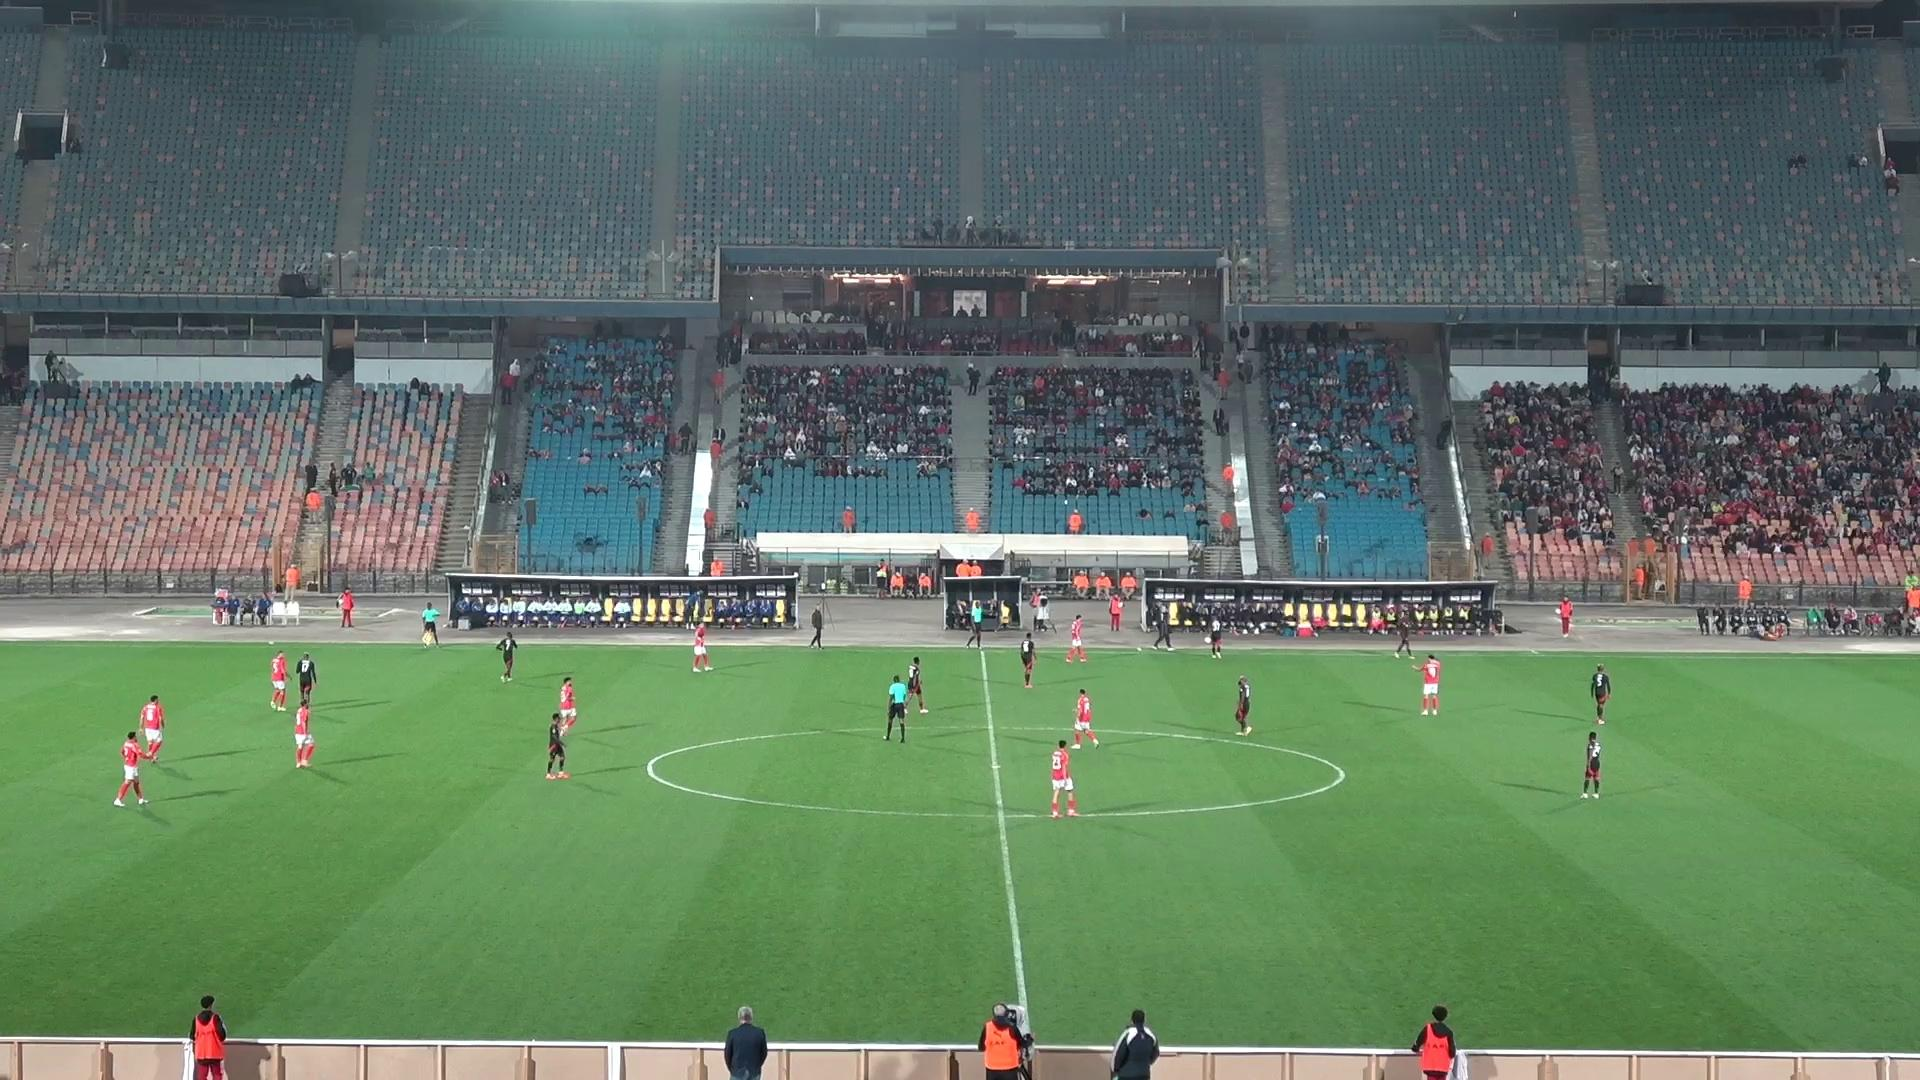Refree: (884, 675, 919, 742), (955, 599, 1000, 647), (421, 603, 440, 646)
Team1: (113, 731, 152, 806), (1048, 740, 1079, 818), (131, 695, 164, 761), (551, 675, 578, 735), (1418, 654, 1443, 715), (1072, 688, 1098, 745), (295, 705, 315, 767), (269, 650, 289, 711), (1065, 615, 1088, 663), (691, 622, 709, 671)
Team2: (545, 709, 575, 778), (894, 655, 928, 713), (1580, 731, 1601, 799), (1590, 663, 1611, 724), (496, 630, 520, 683), (295, 651, 318, 707), (1236, 675, 1251, 735), (1021, 633, 1036, 688)
